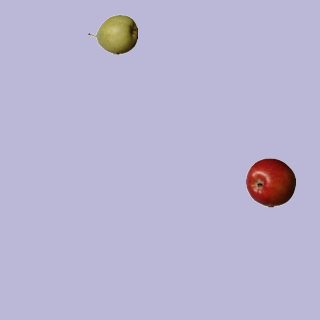Apple Braeburn: (245, 157, 295, 207)
Pear: (87, 9, 137, 59)
